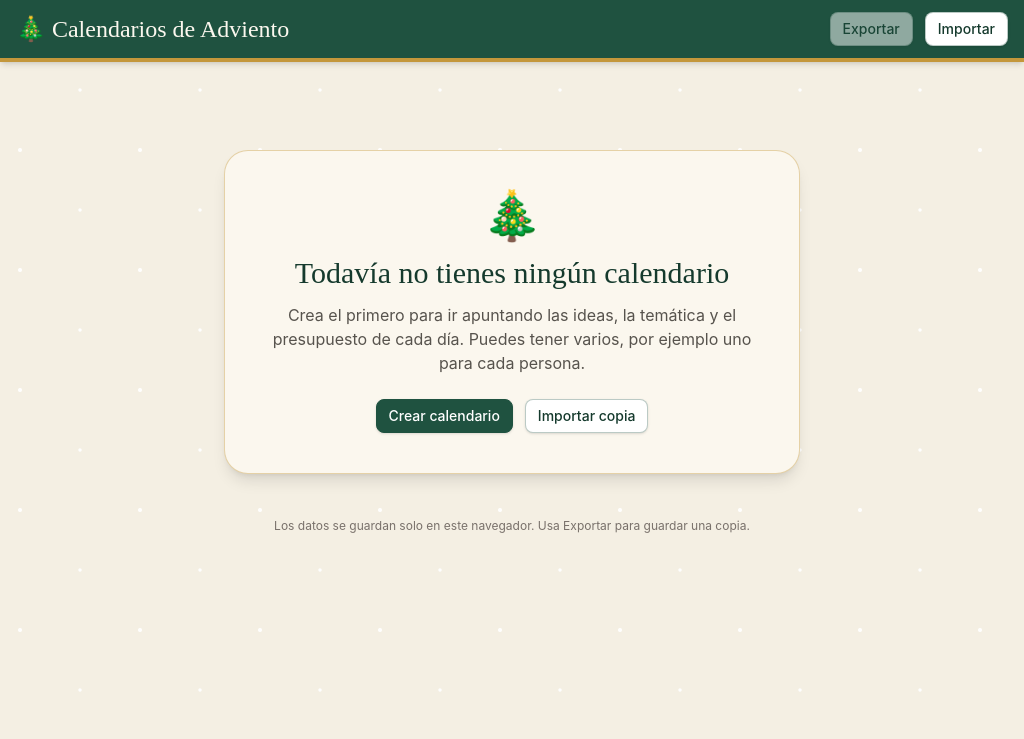
Test: App › avisa de cambios sin exportar y lo quita al exportar
This screenshot has width=1024, height=739.
Click the button "Crear calendario" at (444, 416), box [376,399,513,433]
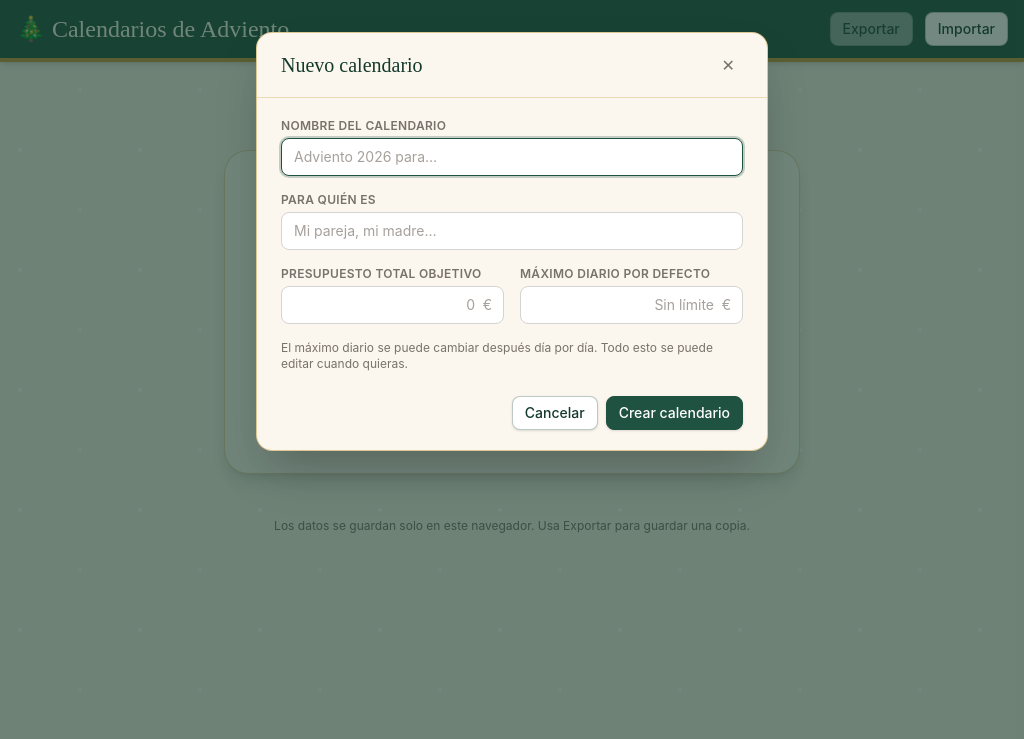
Type "Para mi pareja" into the field labelled "Nombre del calendario" at (512, 157), box [281,138,743,176]
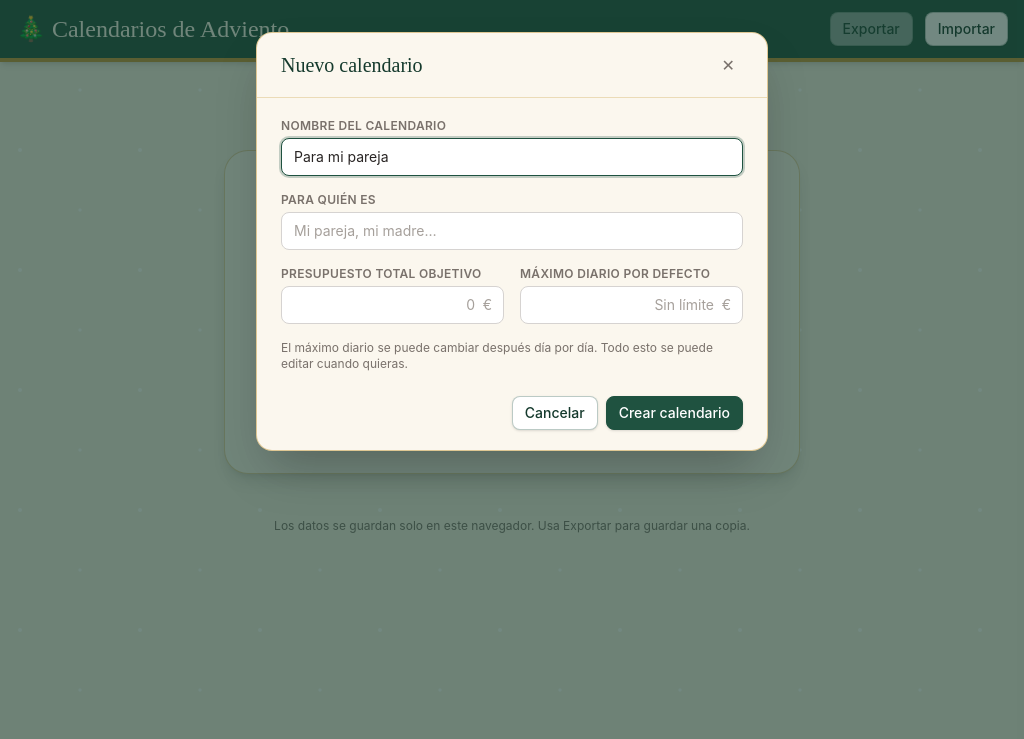
Type "200" into the field labelled "Presupuesto total objetivo" at (392, 305), box [281,286,504,324]
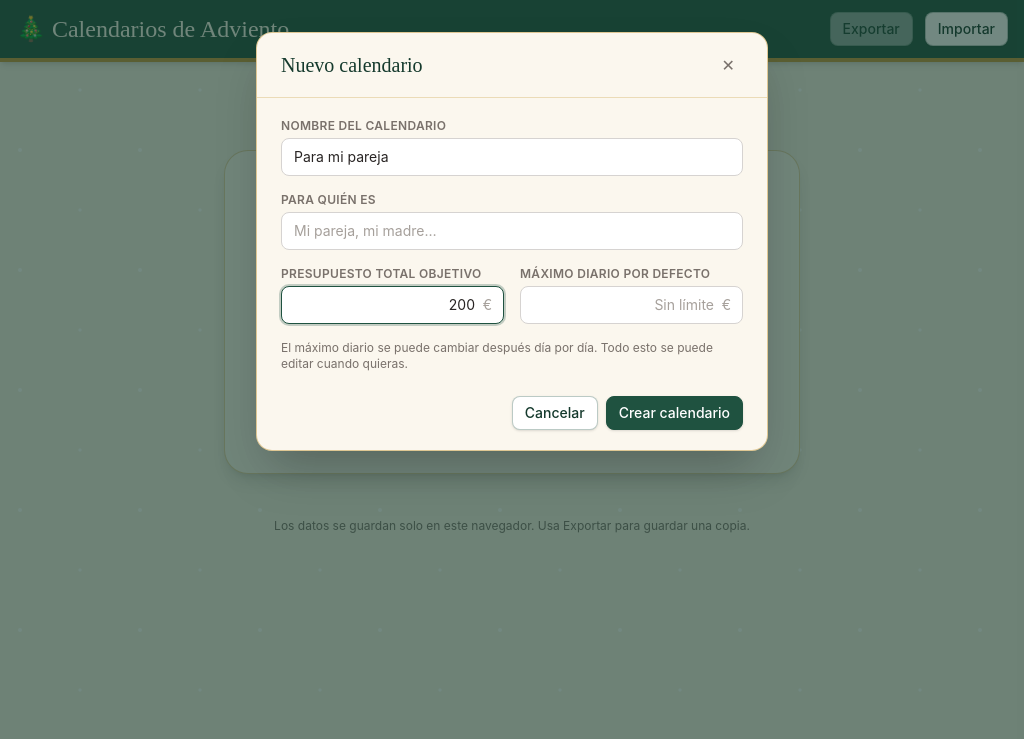
Click the button "Crear calendario" at (674, 413), box [606,396,743,430]
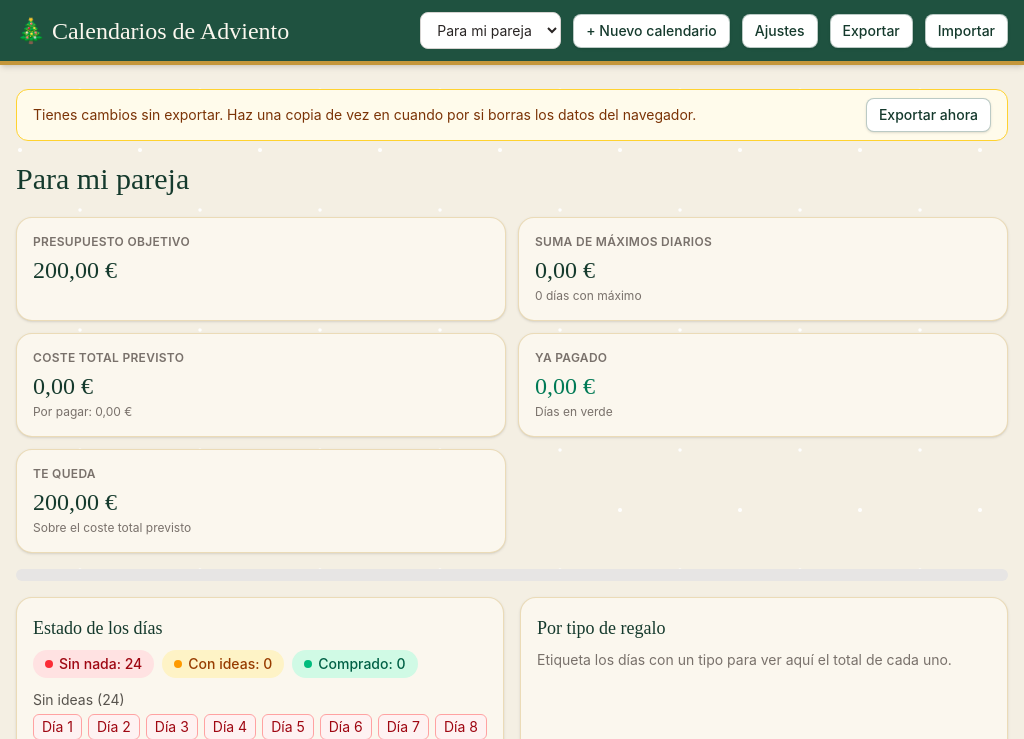
Result: the text "Tienes cambios sin exportar" is shown at [33,106,696,123]
Click the button "Exportar ahora" at (928, 115), box [866,98,991,132]
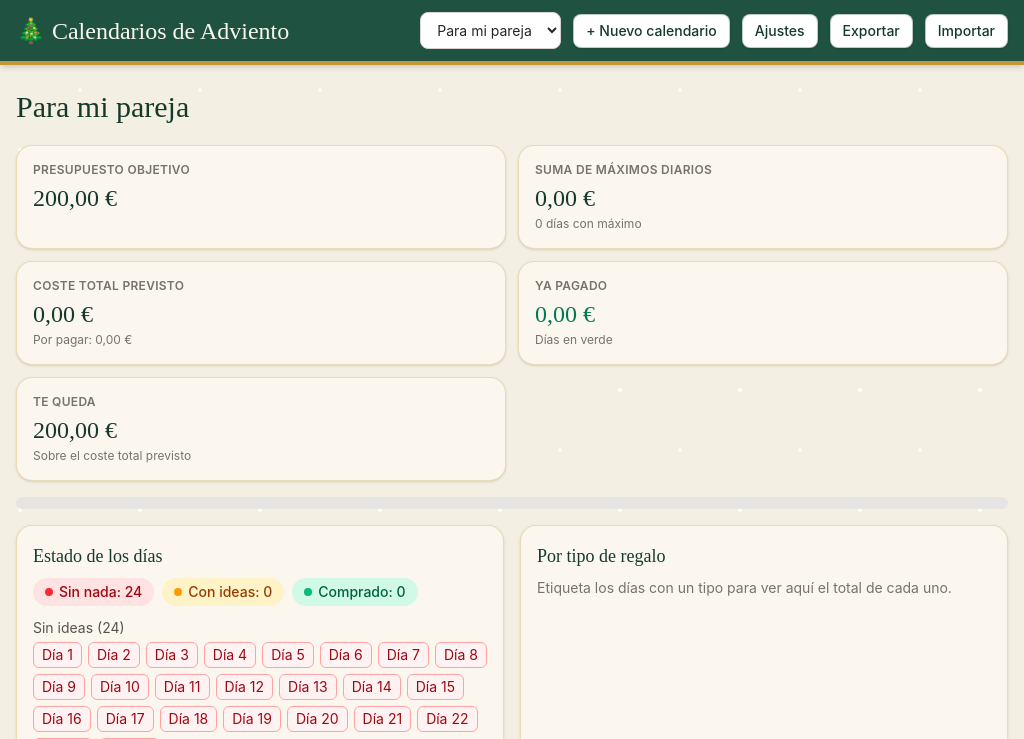
Result: the text "Tienes cambios sin exportar" is gone
